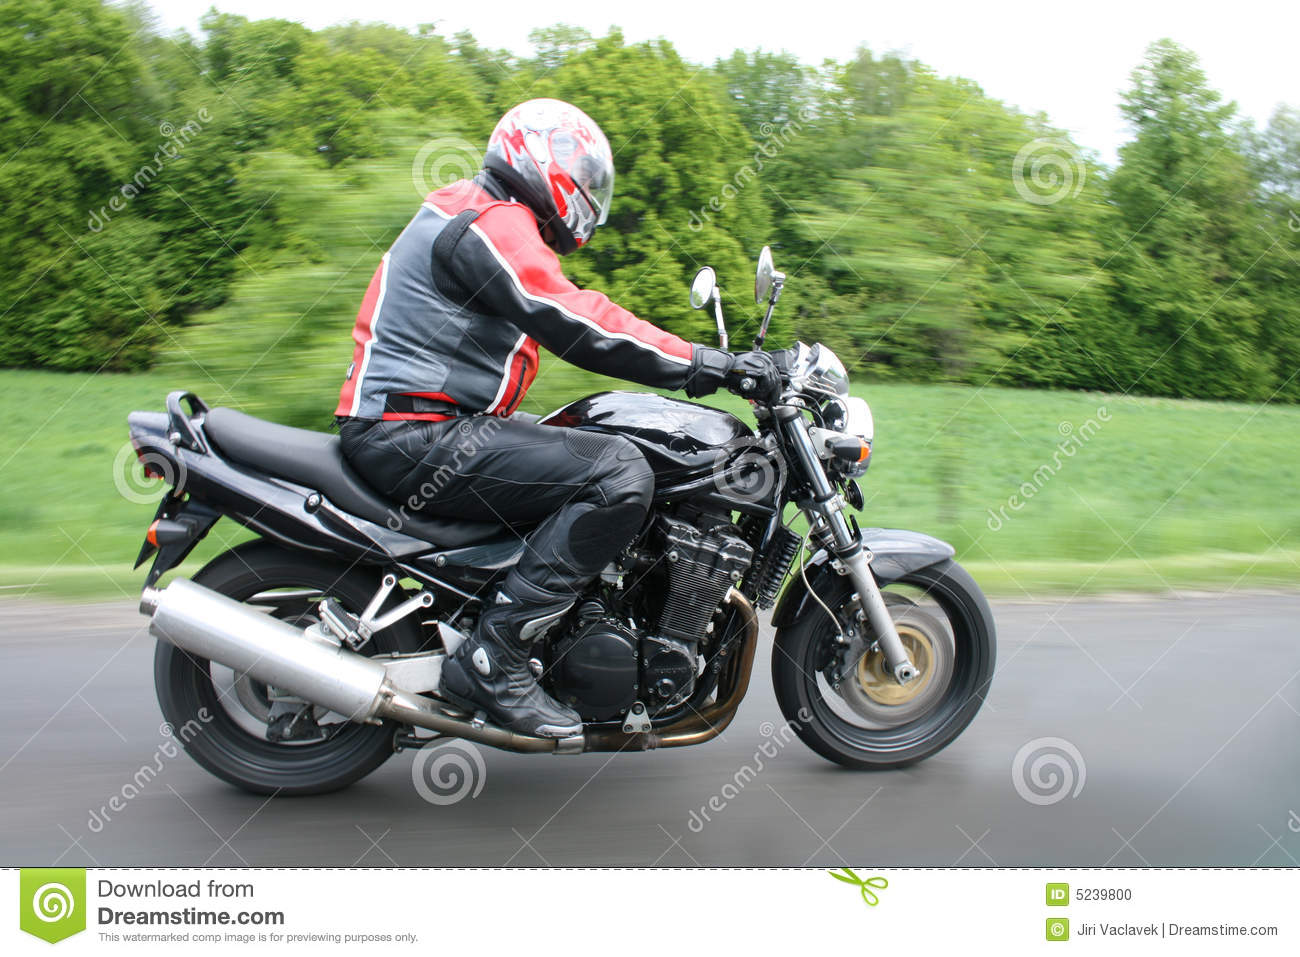helmet: (490, 96, 621, 249)
